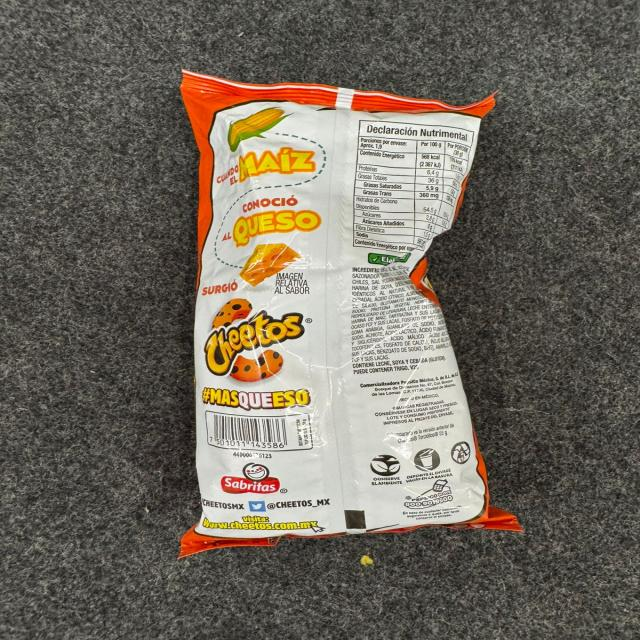CHEETOS TORCIDITOS 240GR: (164, 58, 536, 565)
